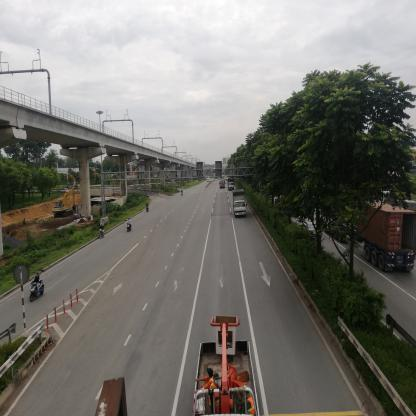bus: (221, 178, 227, 192)
container: (331, 196, 416, 276)
motorbike: (31, 273, 47, 306), (125, 220, 135, 233), (147, 203, 150, 213), (100, 232, 103, 239)
truck: (235, 192, 248, 221), (229, 180, 235, 190)
